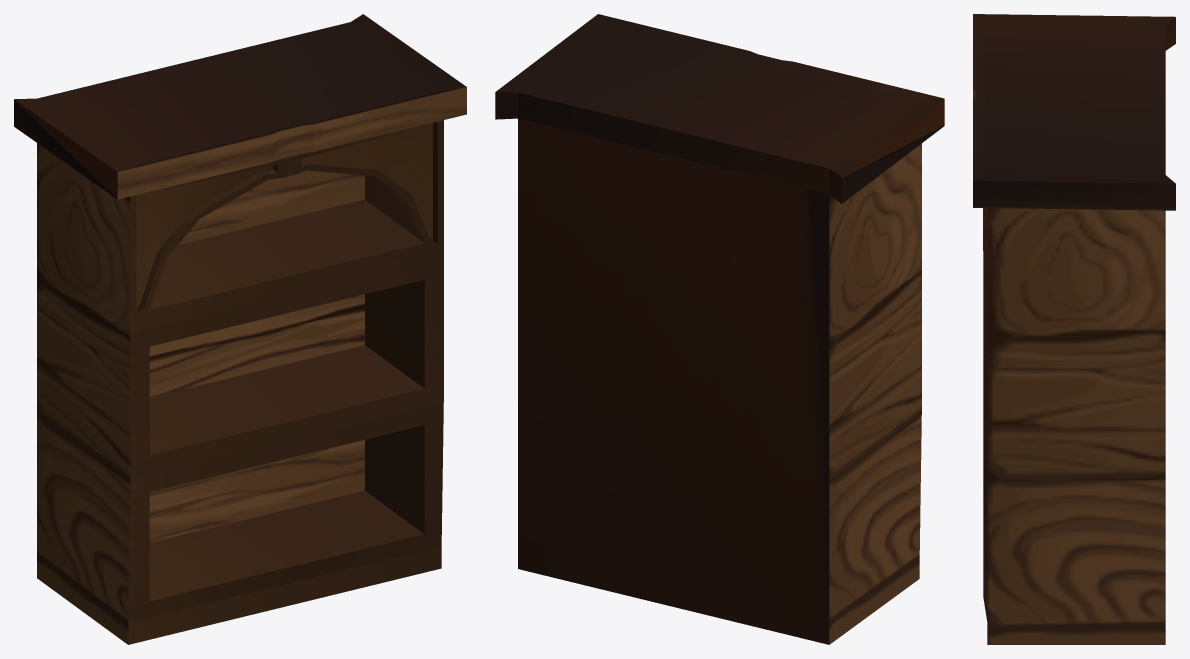
Rendered from Bookshelf.fbx.
3 views of the same model, side by side, from view 1: azimuth 30°, elevation 25°; view 2: azimuth 150°, elevation 25°; view 3: azimuth 270°, elevation 25° (orthographic). The views are drawn at different scales.
Parts seen in each view (by area): view 1: Bookshelf_02; view 2: Bookshelf_02; view 3: Bookshelf_02.
Part boxes in pixels (x1=…): Bookshelf_02: x1=14, y1=14, x2=466, y2=644; Bookshelf_02: x1=495, y1=14, x2=944, y2=644; Bookshelf_02: x1=973, y1=14, x2=1175, y2=644.
Size of the model in its own units: 92.54 by 122 by 47.57.
Materials: 1 (1 with a texture image).
